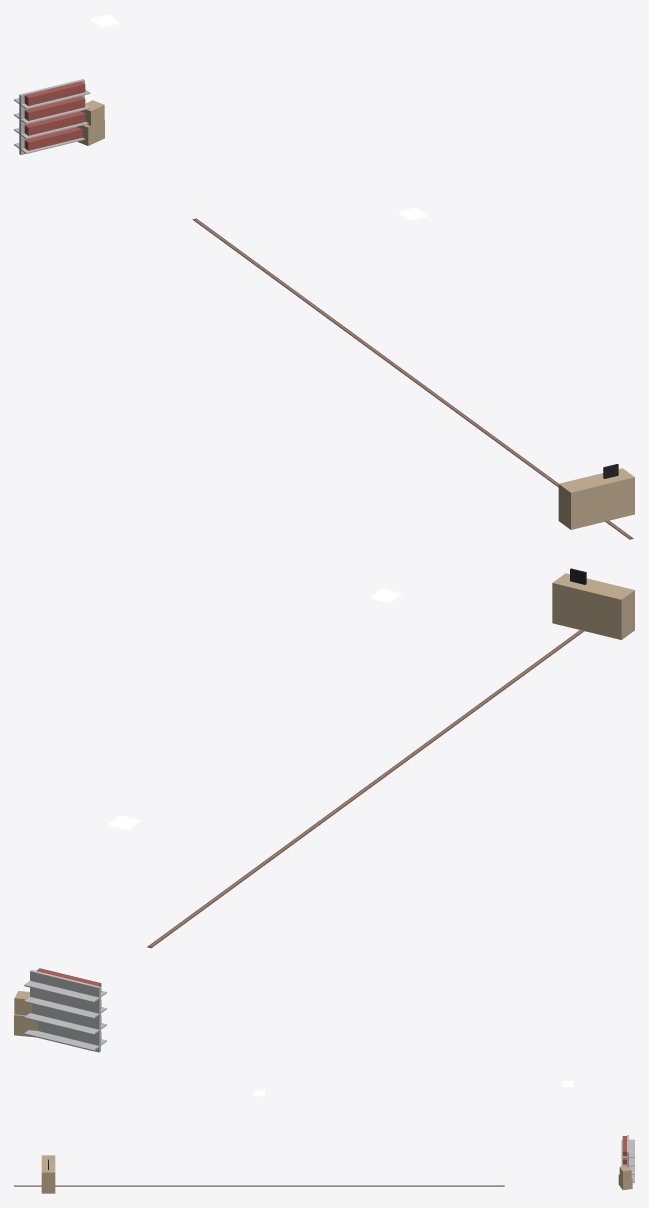
File: fine-s0.glb
The picture shows the model from 3 angles, top to bottom: view 1: azimuth 30°, elevation 25°; view 2: azimuth 150°, elevation 25°; view 3: azimuth 270°, elevation 25°; orthographic projection. The views are drawn at different scales.
Visible parts, largest first — view 1: shelving.000, shop-counter.000, soft-s0, cardboard-box.000; view 2: shelving.000, shop-counter.000, soft-s0, cardboard-box.000; view 3: soft-s0, shop-counter.000, shelving.000, cardboard-box.000.
Boxes of the visible parts, x1,y1,x2,y2 form: shelving.000: [14, 79, 90, 154]; shop-counter.000: [558, 464, 634, 529]; soft-s0: [192, 218, 633, 539]; cardboard-box.000: [77, 100, 104, 145]; shelving.000: [24, 968, 106, 1052]; shop-counter.000: [552, 568, 634, 639]; soft-s0: [147, 629, 584, 948]; cardboard-box.000: [14, 991, 37, 1037]; soft-s0: [14, 1185, 504, 1186]; shop-counter.000: [41, 1155, 55, 1193]; shelving.000: [621, 1135, 634, 1182]; cardboard-box.000: [618, 1166, 632, 1190].
Bounding box in the file's own units: 2.6 × 4.46 × 26.94.
